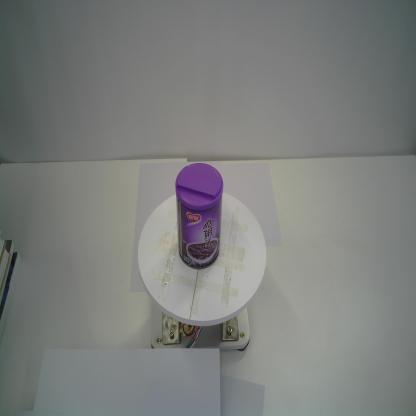Canned Food: (175, 162, 224, 270)
